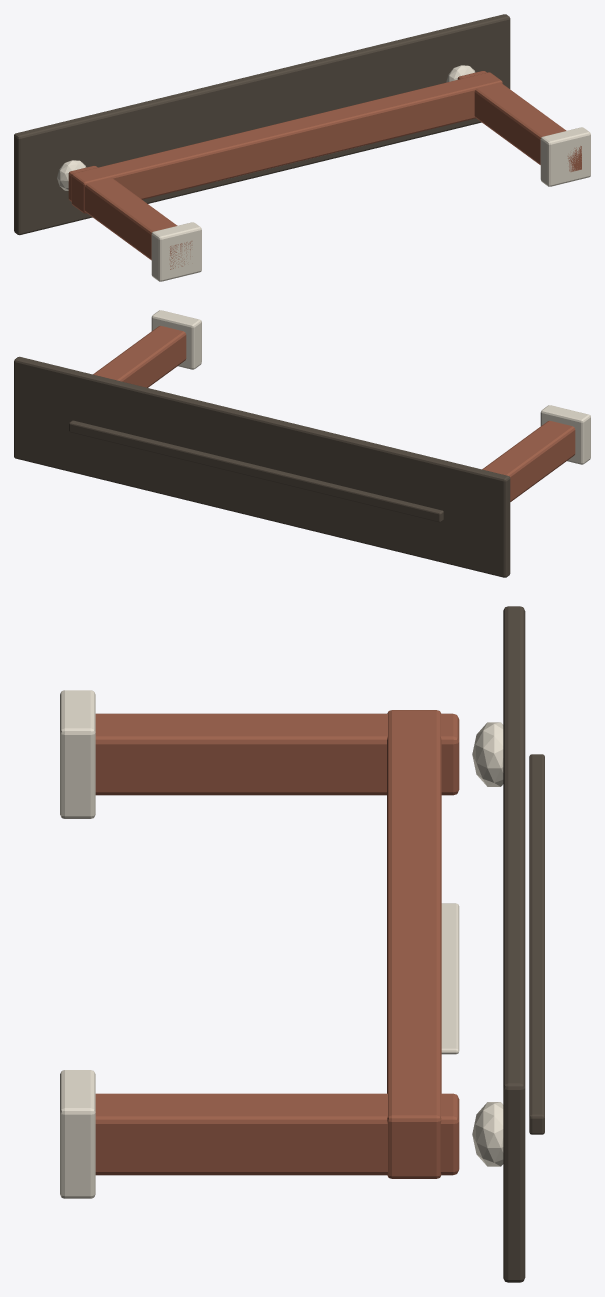
File: gate-tower.glb
3 views of the same model, one above another, from view 1: azimuth 30°, elevation 25°; view 2: azimuth 150°, elevation 25°; view 3: azimuth 270°, elevation 25° (orthographic). The views are drawn at different scales.
Parts seen in each view (by area): view 1: gate_roof, gate_lintel, gate_column, gate_column.001, gate_base, gate_base.001, gate_cap; view 2: gate_roof, gate_ridge, gate_column, gate_column.001, gate_base, gate_base.001; view 3: gate_column.001, gate_column, gate_lintel, gate_roof, gate_ridge, gate_base, gate_base.001, gate_plaque, gate_cap, gate_cap.001.
Boxes of the visible parts, left/top/right/bottom form: gate_roof: left=14, top=14, right=510, bottom=235; gate_lintel: left=71, top=72, right=502, bottom=213; gate_column: left=68, top=166, right=192, bottom=269; gate_column.001: left=457, top=71, right=581, bottom=171; gate_base: left=151, top=222, right=201, bottom=281; gate_base.001: left=540, top=127, right=590, bottom=186; gate_cap: left=57, top=160, right=86, bottom=190; gate_roof: left=14, top=356, right=510, bottom=577; gate_ridge: left=69, top=420, right=443, bottom=522; gate_column: left=482, top=420, right=575, bottom=501; gate_column.001: left=93, top=325, right=186, bottom=387; gate_base: left=540, top=405, right=590, bottom=464; gate_base.001: left=151, top=310, right=201, bottom=369; gate_column.001: left=95, top=1093, right=459, bottom=1175; gate_column: left=95, top=713, right=459, bottom=795; gate_lintel: left=387, top=710, right=441, bottom=1178; gate_roof: left=503, top=606, right=525, bottom=1282; gate_ridge: left=529, top=754, right=544, bottom=1134; gate_base: left=60, top=690, right=95, bottom=818; gate_base.001: left=60, top=1070, right=95, bottom=1198; gate_plaque: left=441, top=903, right=459, bottom=1054; gate_cap: left=472, top=722, right=503, bottom=786; gate_cap.001: left=472, top=1102, right=503, bottom=1166.
Size of the model in its own units: 11.4 by 2.2 by 4.86.
